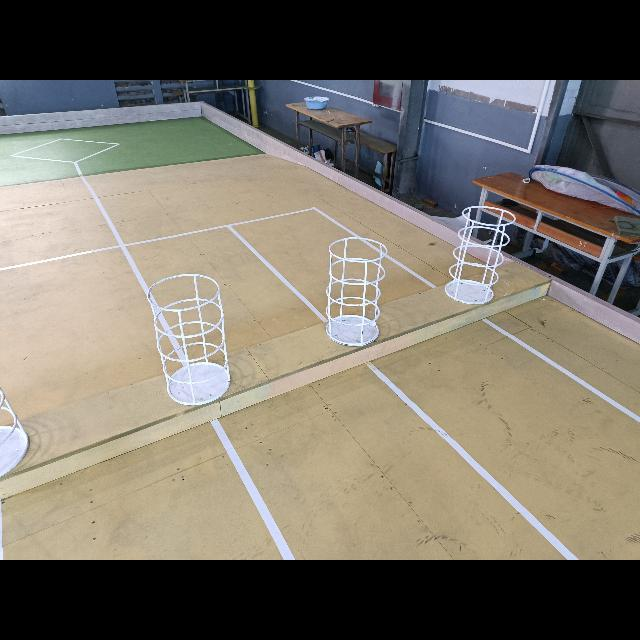S: (147, 274, 231, 405), (325, 236, 387, 345), (446, 207, 515, 303), (0, 387, 29, 478)
